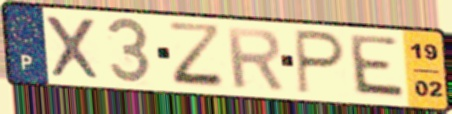3: (104, 14, 154, 88)
E: (349, 32, 409, 102)
P: (292, 27, 348, 98)
R: (222, 25, 286, 92)
X: (41, 12, 104, 82)
Z: (165, 20, 229, 91)
